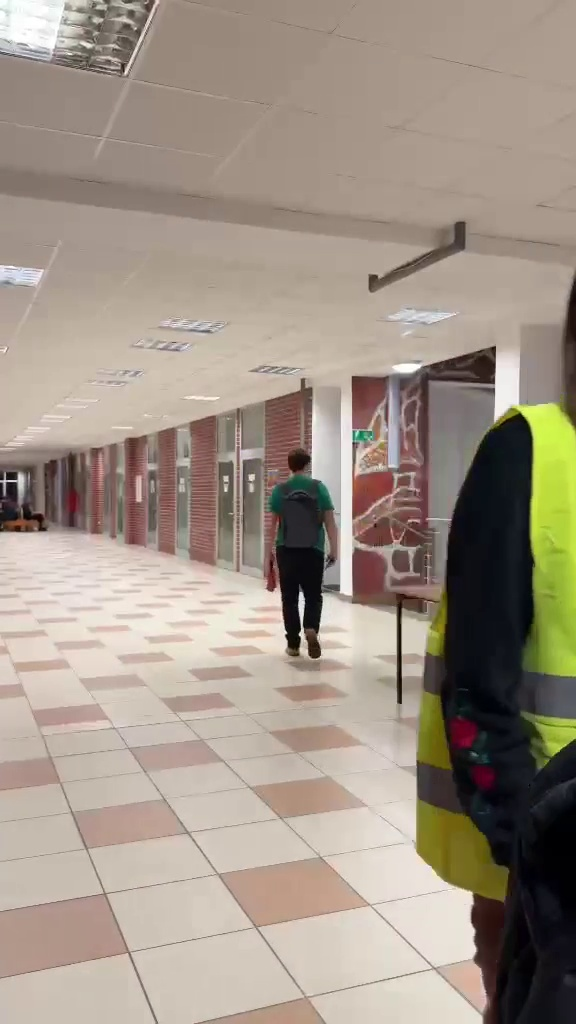no vest: (265, 442, 344, 655)
vest: (396, 271, 576, 982)
